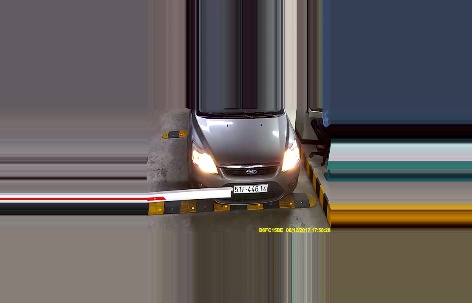plate: (232, 182, 270, 194)
